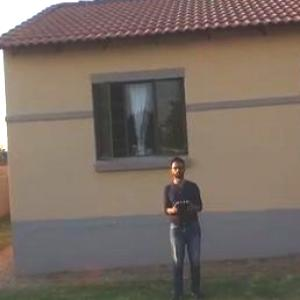follow: (160, 152, 210, 299)
